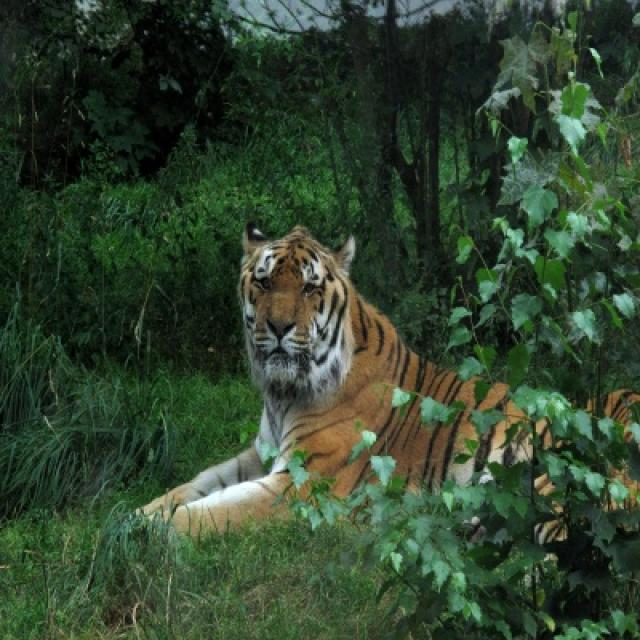Tiger: (142, 222, 531, 534)
